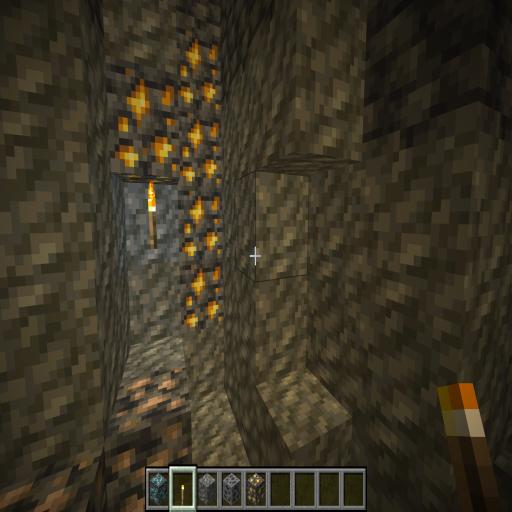gold ore: (176, 31, 228, 330), (109, 61, 180, 181)
iron ore: (105, 362, 194, 512), (0, 446, 122, 512)
